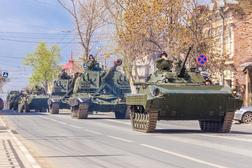bmp: (134, 50, 242, 130)
